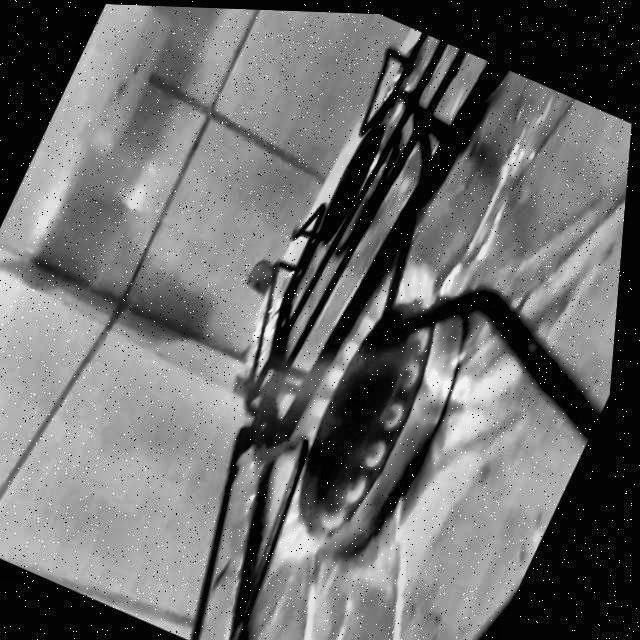Fire: (153, 197, 483, 593)
